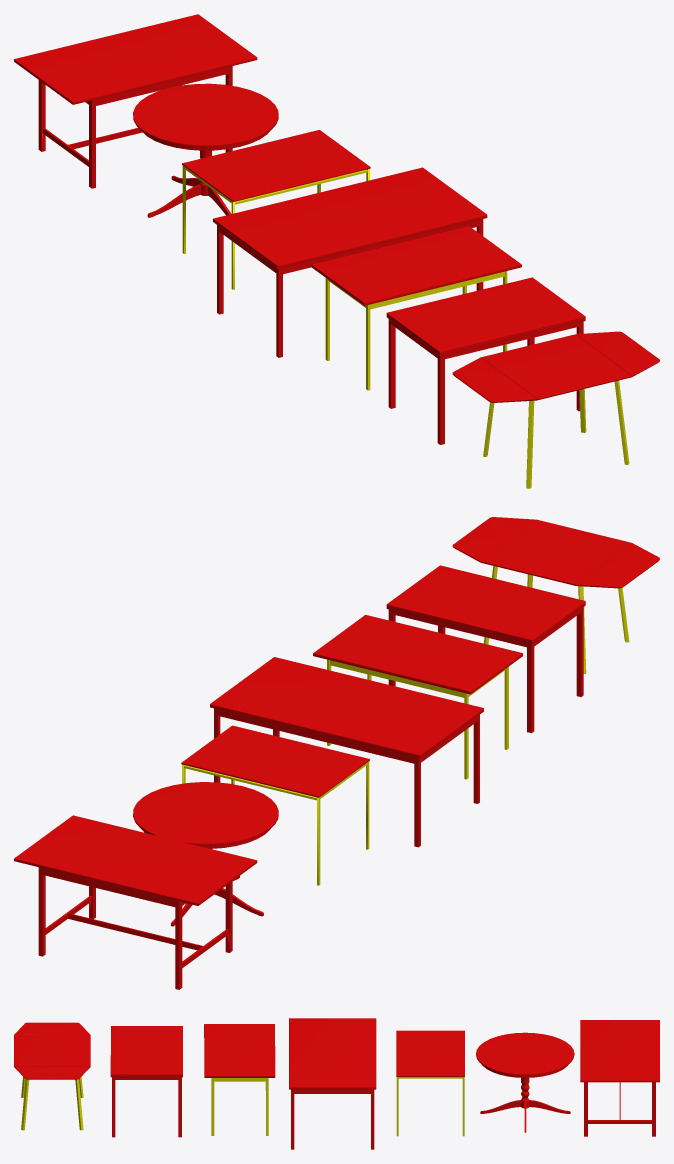
Rendered from thorkea_dining_tables_grp.fbx.
3 renders of one model, top to bottom at view 1: azimuth 30°, elevation 25°; view 2: azimuth 150°, elevation 25°; view 3: azimuth 270°, elevation 25°, orthographic. The views are drawn at different scales.
Parts seen in each view (by area): view 1: thorkea_dining_table_extendable, thorkea_dining_table_norden_gateleg, thorkea_dining_table_jokkmokk, thorkea_dining_table_ps_2012, thorkea_dining_table_antas, thorkea_dining_table_liatorp, thorkea_dining_table_mella; view 2: thorkea_dining_table_extendable, thorkea_dining_table_norden_gateleg, thorkea_dining_table_jokkmokk, thorkea_dining_table_antas, thorkea_dining_table_ps_2012, thorkea_dining_table_mella, thorkea_dining_table_liatorp; view 3: thorkea_dining_table_extendable, thorkea_dining_table_norden_gateleg, thorkea_dining_table_ps_2012, thorkea_dining_table_antas, thorkea_dining_table_jokkmokk, thorkea_dining_table_liatorp, thorkea_dining_table_mella.
Boxes of the visible parts, box(x1,y1,x2,y2) form: thorkea_dining_table_extendable: box(213, 167, 487, 357); thorkea_dining_table_norden_gateleg: box(14, 14, 257, 188); thorkea_dining_table_jokkmokk: box(386, 277, 585, 444); thorkea_dining_table_ps_2012: box(452, 331, 659, 488); thorkea_dining_table_antas: box(311, 226, 521, 390); thorkea_dining_table_liatorp: box(133, 83, 278, 217); thorkea_dining_table_mella: box(182, 130, 370, 289); thorkea_dining_table_extendable: box(210, 657, 483, 847); thorkea_dining_table_norden_gateleg: box(14, 815, 257, 989); thorkea_dining_table_jokkmokk: box(386, 565, 585, 733); thorkea_dining_table_antas: box(313, 615, 522, 779); thorkea_dining_table_ps_2012: box(452, 517, 659, 673); thorkea_dining_table_mella: box(181, 725, 369, 885); thorkea_dining_table_liatorp: box(133, 782, 278, 926); thorkea_dining_table_extendable: box(289, 1018, 376, 1149); thorkea_dining_table_norden_gateleg: box(580, 1020, 659, 1136); thorkea_dining_table_ps_2012: box(14, 1022, 90, 1130); thorkea_dining_table_antas: box(204, 1024, 275, 1135); thorkea_dining_table_jokkmokk: box(110, 1026, 182, 1137); thorkea_dining_table_liatorp: box(476, 1032, 574, 1132); thorkea_dining_table_mella: box(396, 1030, 464, 1136).
Size of the model in its own units: 173 by 76.39 by 683.
